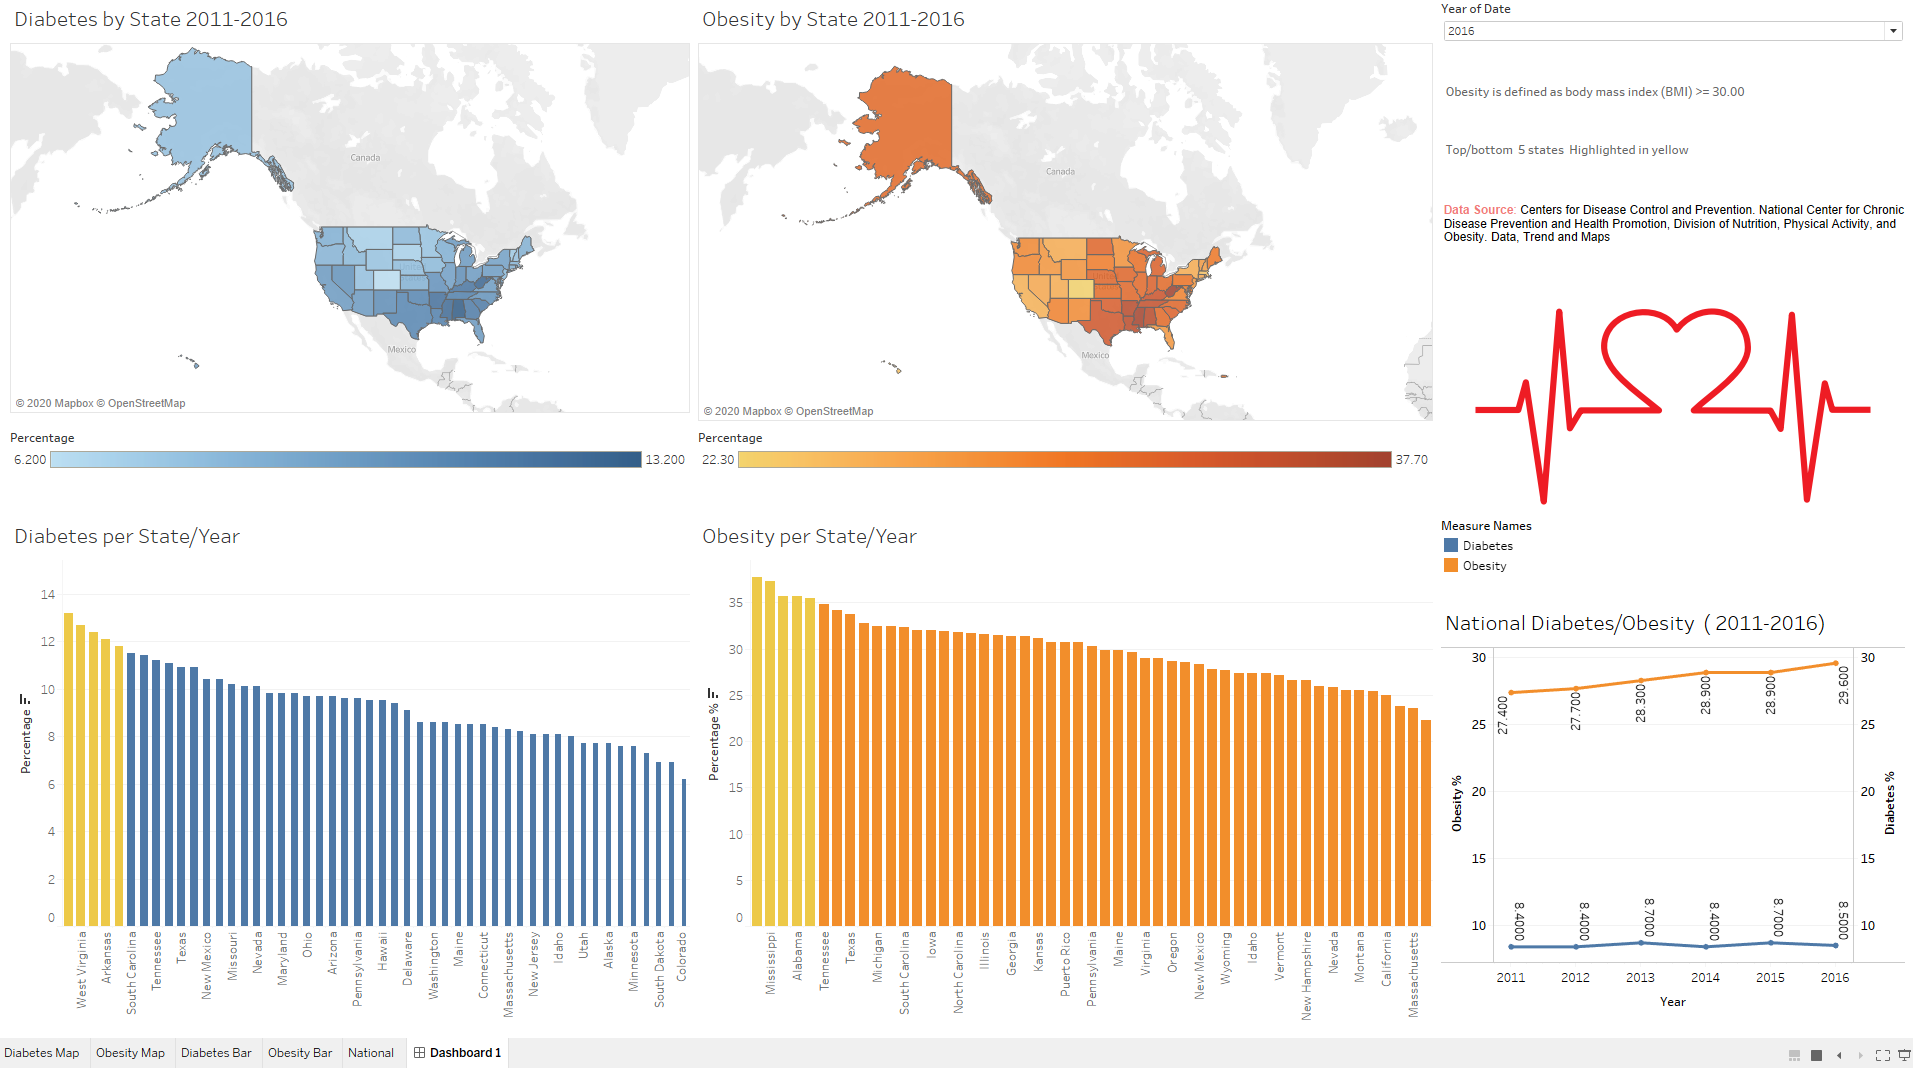

This screenshot's page, from the dashboard's own definition file:
{"tool":"tableau","page":{"name":"Dashboard 1","canvas":[1000,1000],"units":"permille","ordinal":0},"visuals":[{"type":"worksheet","box":[0,0,1000,1000]},{"type":"worksheet","param":"horz","box":[4.7,8.8,990.6,982.3]},{"type":"worksheet","box":[4.7,8.8,990.6,982.3]},{"type":"worksheet","param":"horz","box":[4.7,8.8,744.8,982.3]},{"type":"worksheet","box":[4.7,8.8,744.8,982.3]},{"type":"worksheet","title":"Diabetes Map","mark":"Multipolygon","box":[4.7,8.8,357.9,408]},{"type":"worksheet","title":"Obesity Map","mark":"Automatic","box":[362.6,8.8,386.8,408]},{"type":"worksheet","title":"Diabetes Map","mark":"Multipolygon","param":"[federated.0xuy8690ansnom19kuie30amb3ie].[yr:Date:ok]","box":[749.5,8.8,245.8,144.2]},{"type":"worksheet","box":[752.5,75.2,183.2,46.5]},{"type":"worksheet","box":[752.5,130.5,150.4,46.5]},{"type":"worksheet","box":[749.5,153.1,245.8,144.3]},{"type":"worksheet","param":"Image/Heart-EKG.svg","box":[749.5,297.4,245.8,202.6]},{"type":"worksheet","title":"Diabetes Map","mark":"Multipolygon","param":"[federated.0xuy8690ansnom19kuie30amb3ie].[sum:Percentage:qk]","box":[4.7,416.8,357.9,83.2]},{"type":"worksheet","title":"Obesity Map","mark":"Automatic","param":"[federated.0xuy8690ansnom19kuie30amb3ie].[sum:Data_Value:qk]","box":[362.6,416.8,386.8,83.2]},{"type":"worksheet","title":"Diabetes Bar","mark":"Automatic","rows":["Percentage"],"cols":["State"],"box":[4.7,500,357.9,491.2]},{"type":"worksheet","title":"Obesity Bar","mark":"Automatic","rows":["Data_Value"],"cols":["LocationDesc"],"box":[362.6,500,386.8,491.2]},{"type":"worksheet","title":"National ","mark":"Automatic","rows":["LocationDesc","Data_Value","Total - Percentage"],"cols":["YearStart"],"param":"[federated.0xuy8690ansnom19kuie30amb3ie].[:Measure Names]","box":[749.5,500,245.8,82.8]},{"type":"worksheet","title":"National ","mark":"Automatic","rows":["LocationDesc","Data_Value","Total - Percentage"],"cols":["YearStart"],"box":[749.5,582.8,245.8,408.3]}]}

Visuals, with their boxes on the dashboard's canvas, which has no fixed pixel size, in thousandths of its width and height (x1, y1, x2, y2). These are canvas units, not pixel positions in the 1913x1068 screenshot, which may show the page scaled, cropped or inside an application window:
worksheet: [left=0, top=0, right=1000, bottom=1000]
worksheet: [left=5, top=9, right=995, bottom=991]
worksheet: [left=5, top=9, right=995, bottom=991]
worksheet: [left=5, top=9, right=750, bottom=991]
worksheet: [left=5, top=9, right=750, bottom=991]
"Diabetes Map" worksheet (Multipolygon marks): [left=5, top=9, right=363, bottom=417]
"Obesity Map" worksheet: [left=363, top=9, right=749, bottom=417]
"Diabetes Map" worksheet (Multipolygon marks): [left=750, top=9, right=995, bottom=153]
worksheet: [left=752, top=75, right=936, bottom=122]
worksheet: [left=752, top=130, right=903, bottom=177]
worksheet: [left=750, top=153, right=995, bottom=297]
worksheet: [left=750, top=297, right=995, bottom=500]
"Diabetes Map" worksheet (Multipolygon marks): [left=5, top=417, right=363, bottom=500]
"Obesity Map" worksheet: [left=363, top=417, right=749, bottom=500]
"Diabetes Bar" worksheet: [left=5, top=500, right=363, bottom=991]
"Obesity Bar" worksheet: [left=363, top=500, right=749, bottom=991]
"National " worksheet: [left=750, top=500, right=995, bottom=583]
"National " worksheet: [left=750, top=583, right=995, bottom=991]
